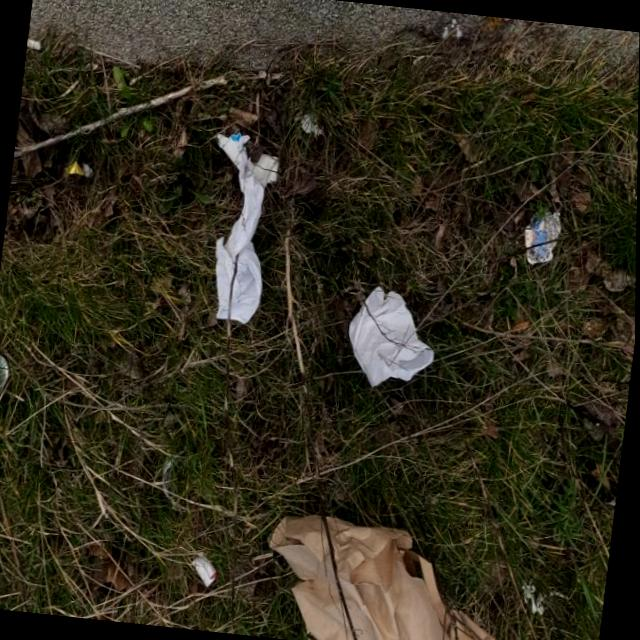Can-Metal: (0, 349, 13, 414)
Paper: (258, 507, 514, 640), (194, 128, 284, 328), (343, 282, 442, 395), (520, 206, 565, 268)
